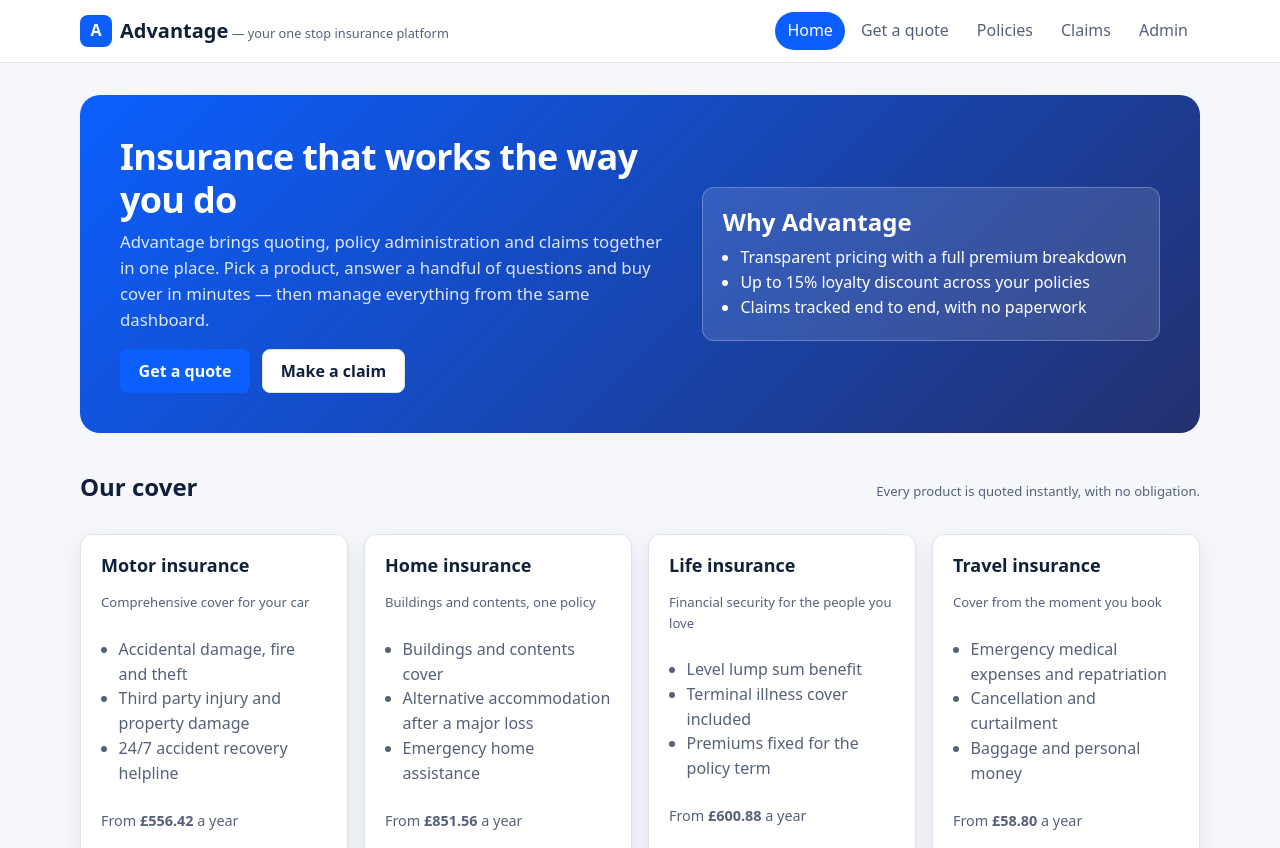
Test: Advantage platform › reports invalid platform settings
The image size is (1280, 848).
Click the link "Admin" at (1164, 30), box x1=1139 y1=19 x2=1188 y2=41
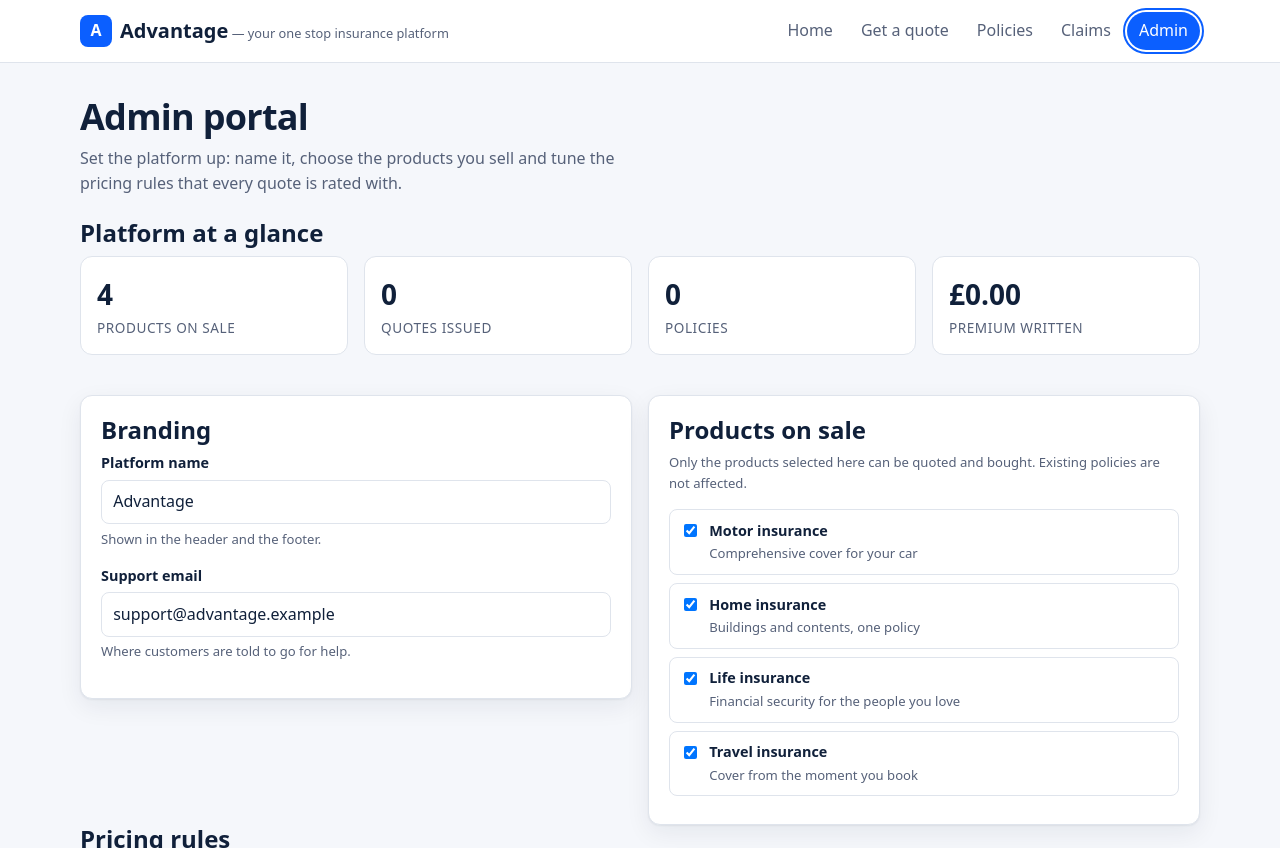
Clear the field labelled "Support email" at (356, 614), box x1=101 y1=592 x2=611 y2=637
(page scrolled)
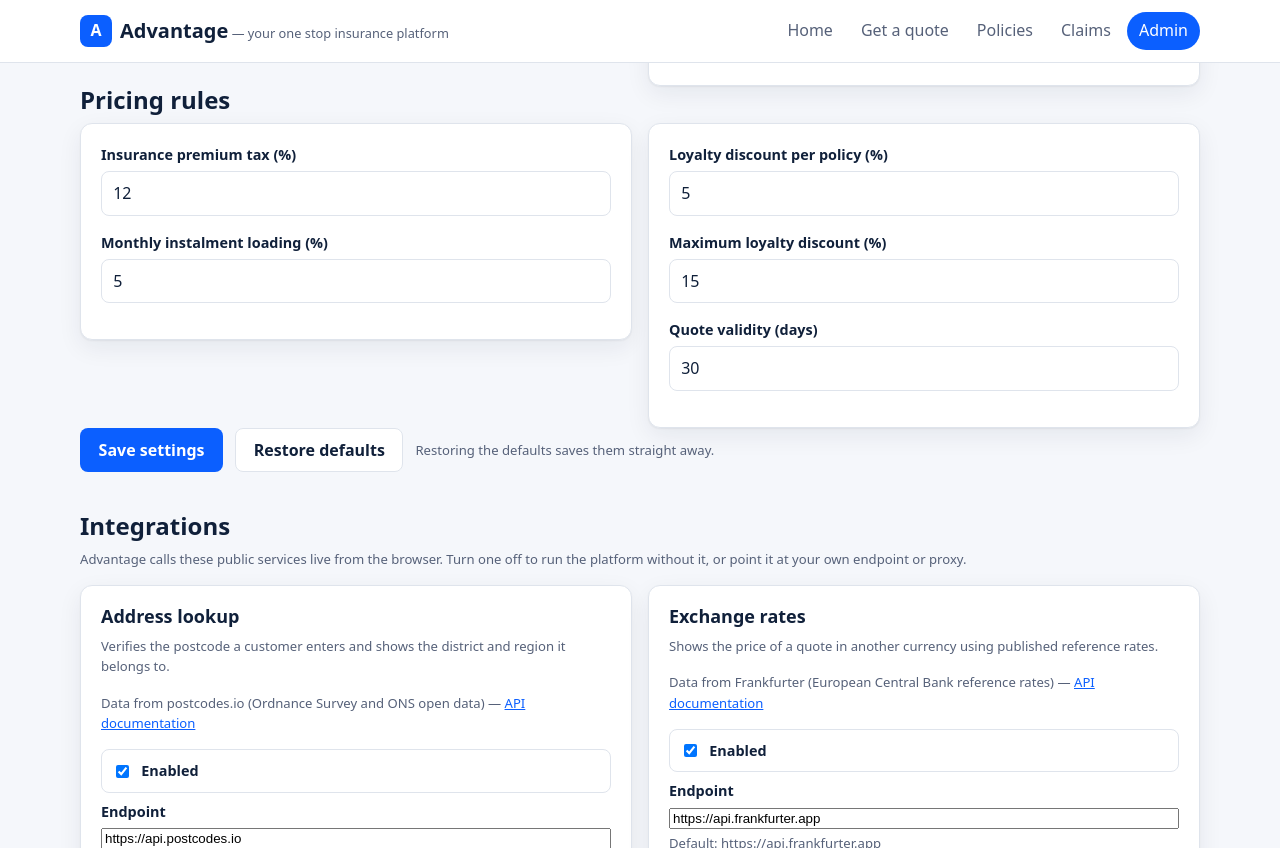
Click the button "Save settings" at (152, 450), box x1=80 y1=428 x2=223 y2=472
(page scrolled)
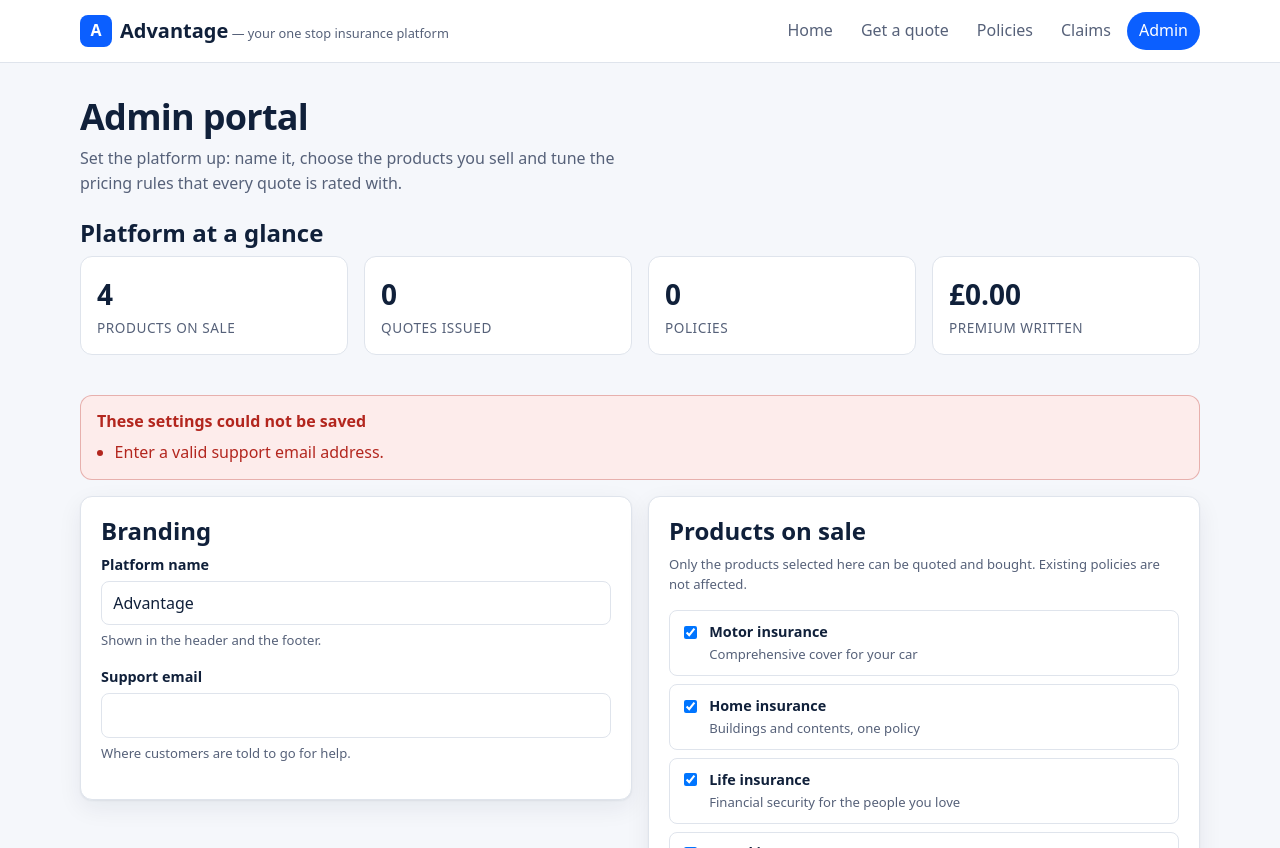
Now the message shows "valid support email", box x1=115 y1=441 x2=384 y2=463
